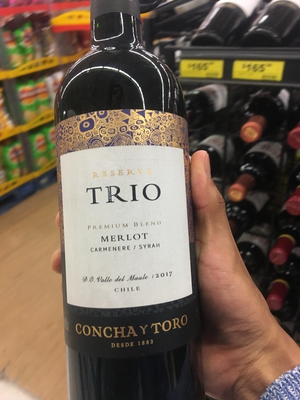trio merlot: (54, 16, 201, 400)
